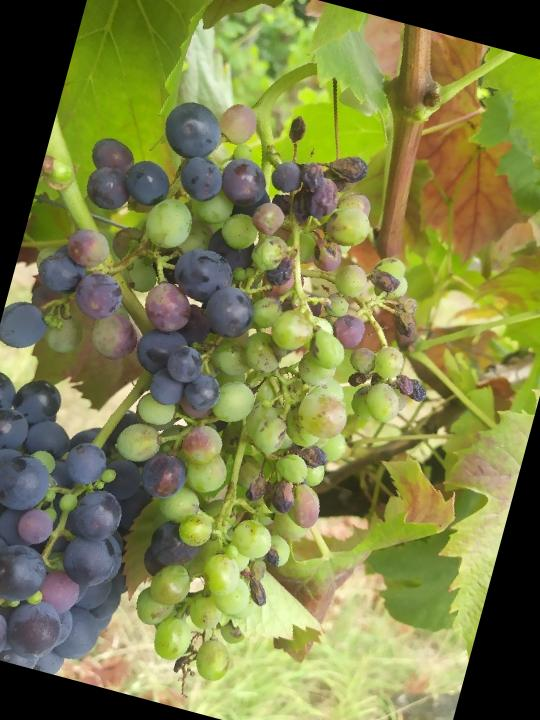grape: (0, 57, 486, 720)
